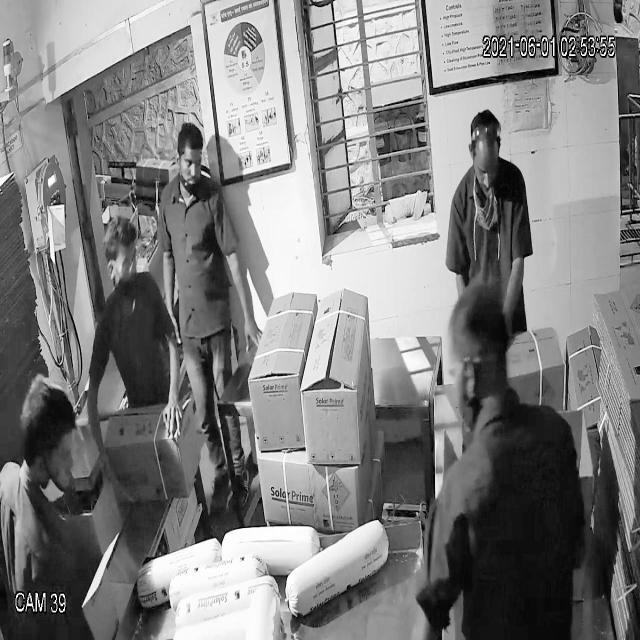glasses: (102, 244, 140, 284)
no-glass: (467, 153, 501, 187)
